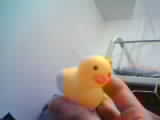duck: (57, 49, 104, 95)
